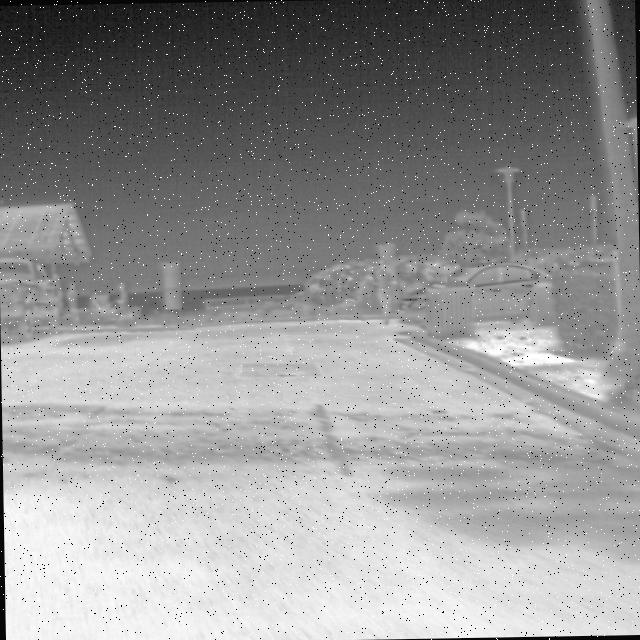Pedestrian: (374, 258, 394, 326)
Vehicle: (396, 255, 561, 332), (0, 252, 63, 344)
